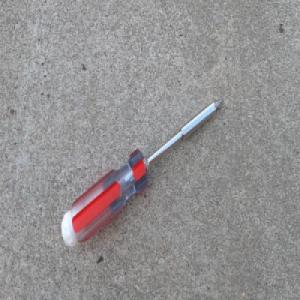Screwdriver: (61, 95, 225, 248)
